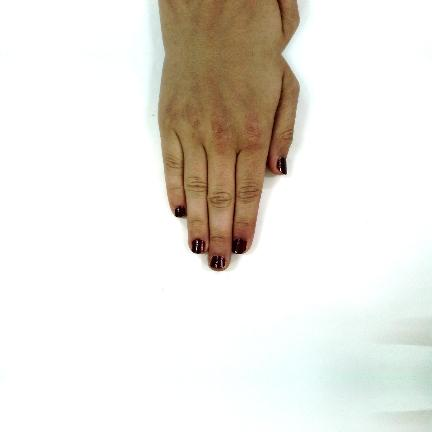Nail: (232, 239, 247, 254), (191, 239, 205, 254), (210, 255, 225, 269), (277, 157, 288, 174), (175, 206, 186, 217)
